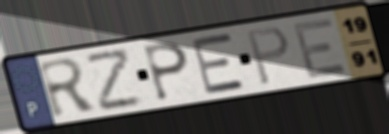E: (189, 31, 249, 97), (290, 15, 350, 81)
P: (141, 41, 191, 104), (245, 24, 291, 88)
R: (35, 56, 101, 121)
Z: (84, 45, 145, 114)
